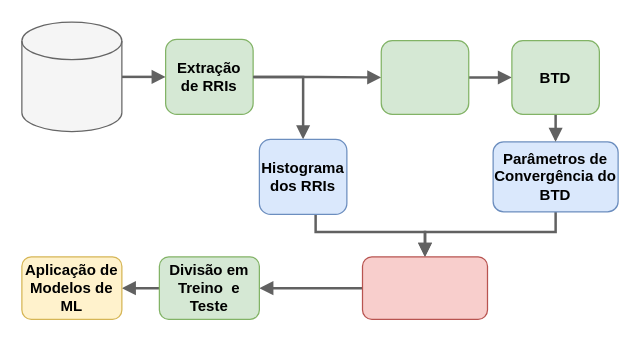
Some shapes in this 640 by 341 pixel diagram are drawn without their labels. Each missing label, with the box of its shape:
Base com ECGs: (21, 21, 122, 132)
Filtragem: (380, 39, 469, 114)
Randomização: (361, 256, 488, 319)
